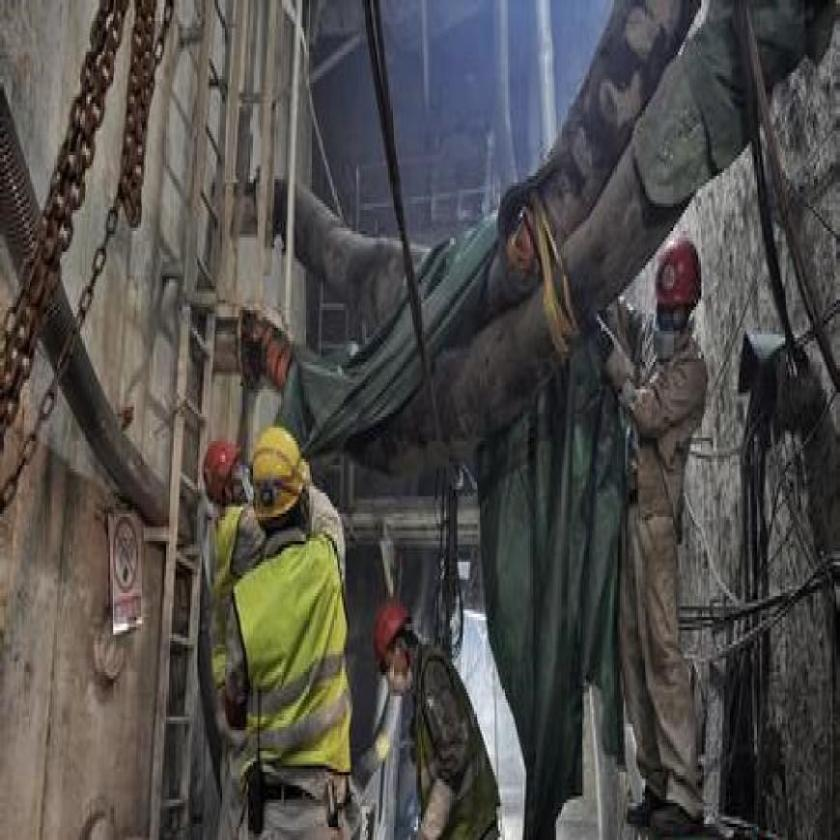Con_casco: (246, 428, 321, 550), (648, 222, 711, 362), (372, 598, 423, 697), (203, 440, 250, 513)
